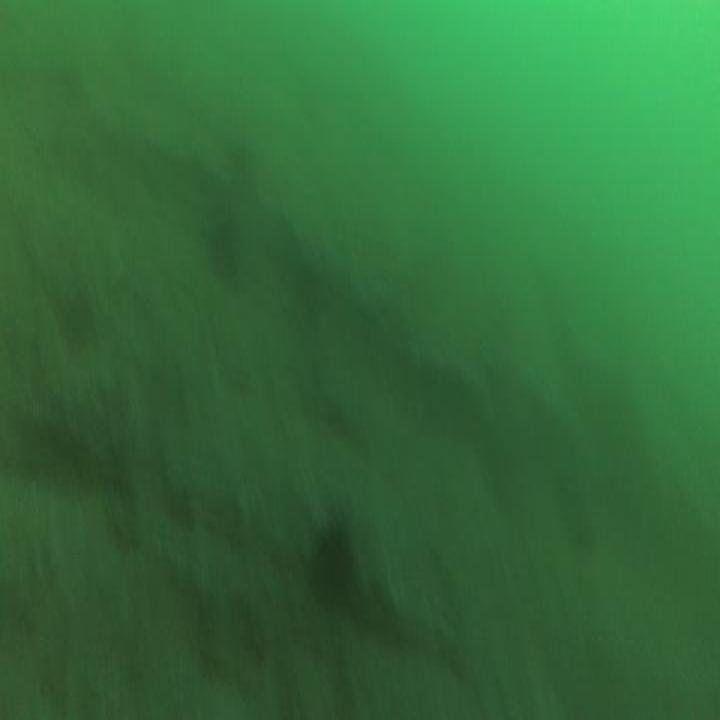echinus: (307, 516, 356, 622)
